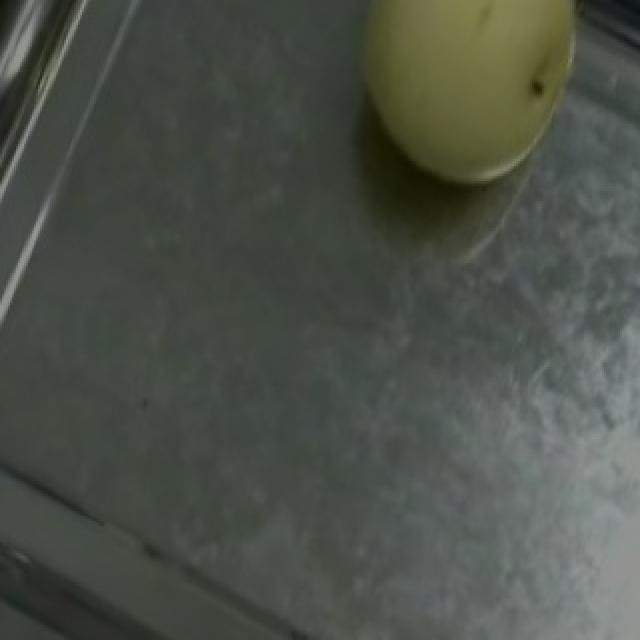Fruit: (314, 0, 618, 221)
